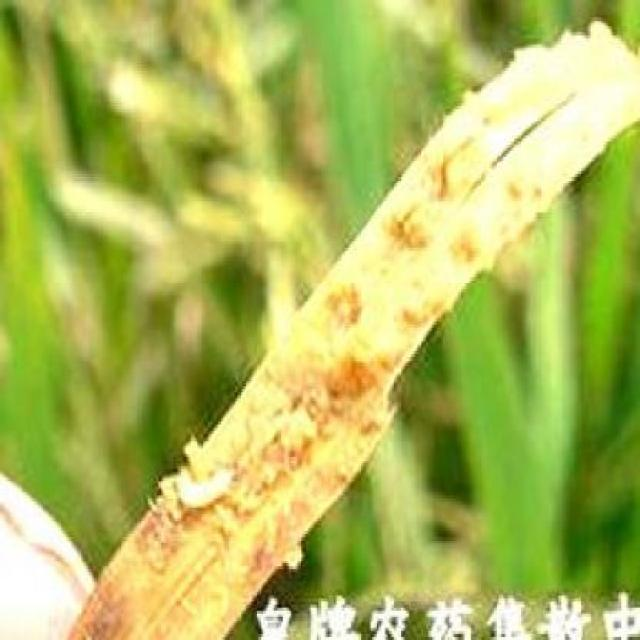whorl-maggot: (168, 454, 242, 528)
